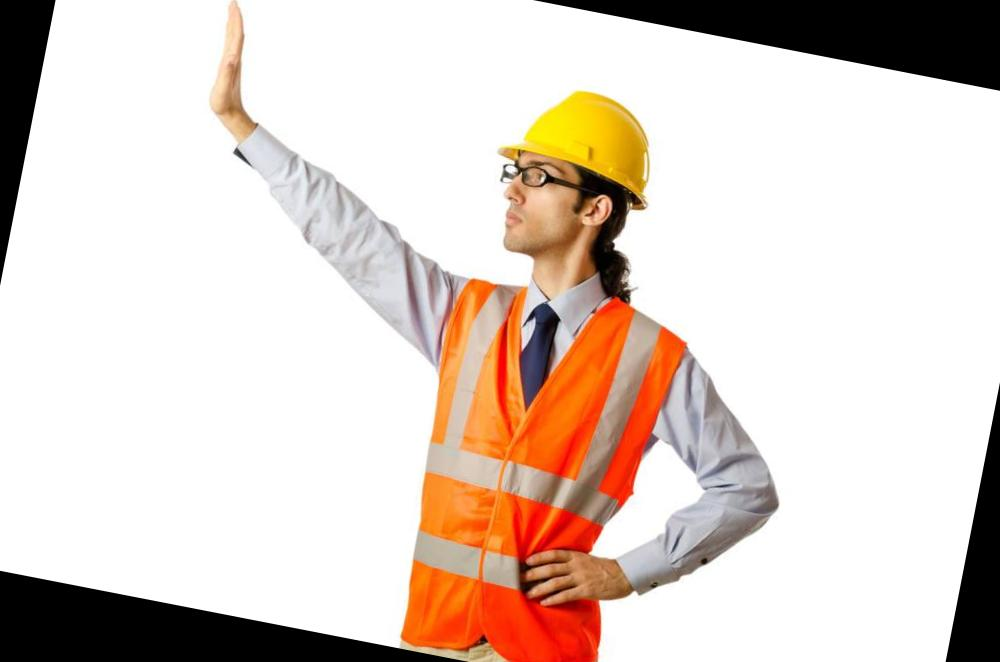Vest: (390, 255, 694, 660)
